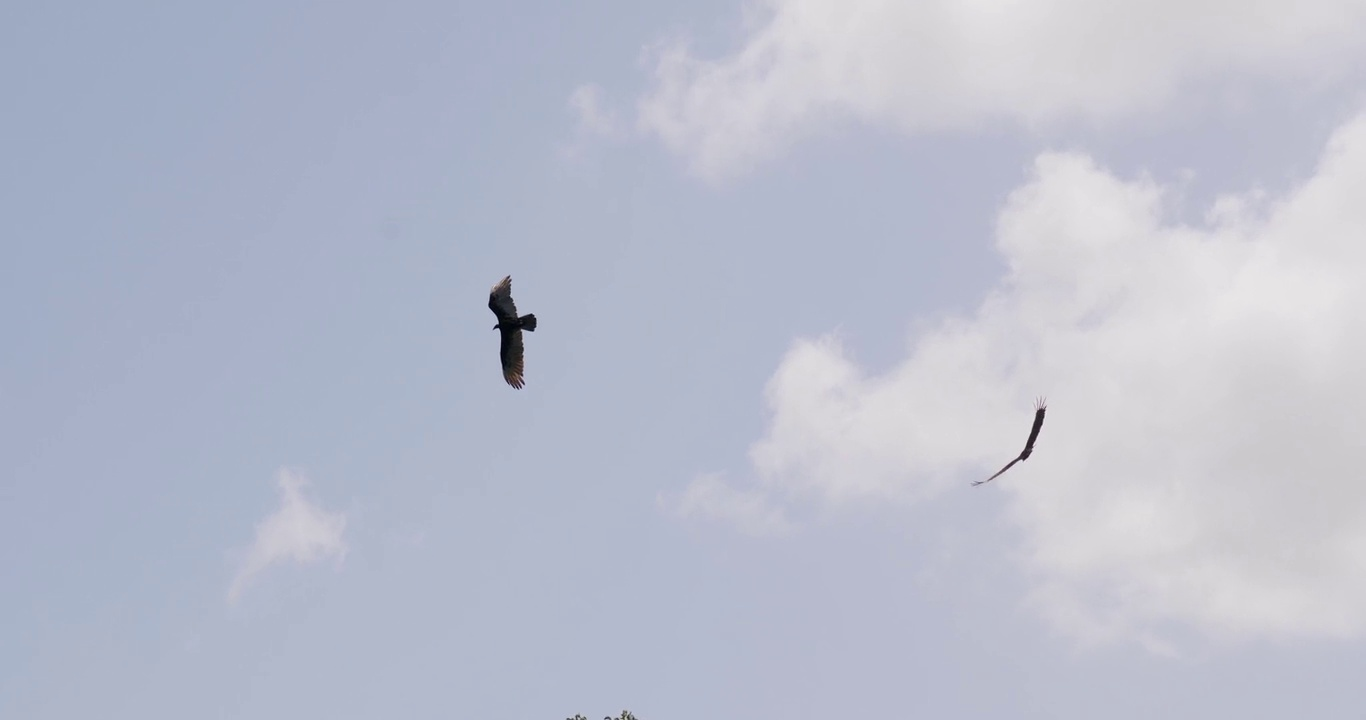bird: (969, 398, 1045, 488), (488, 273, 536, 392)
